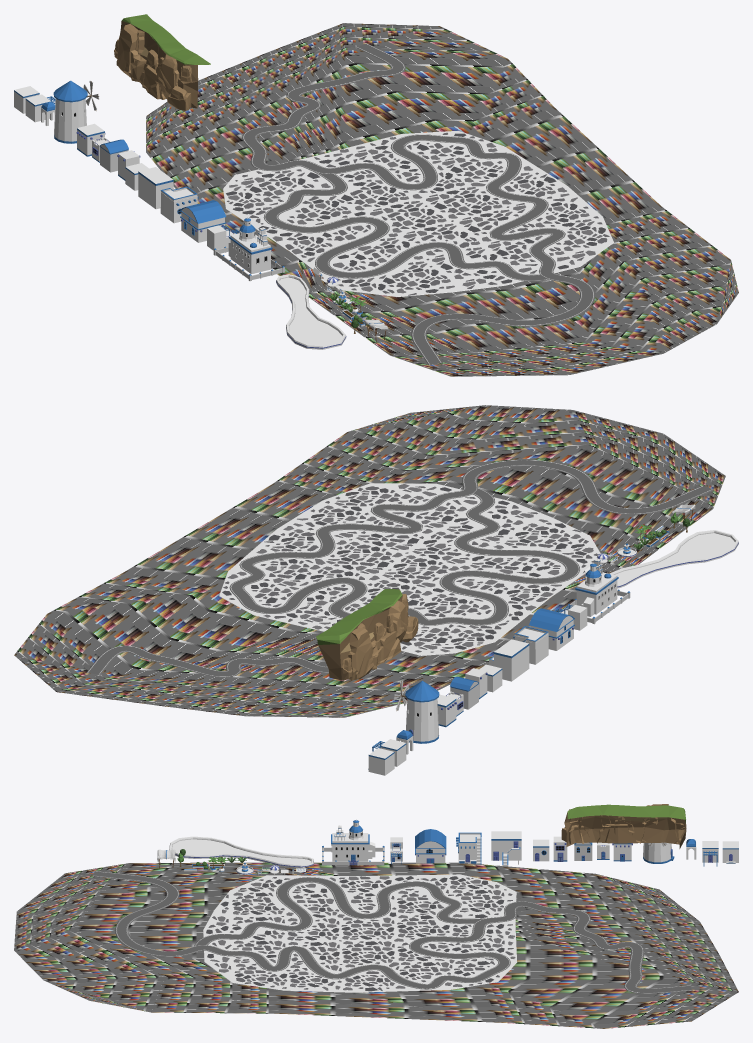
File: GreciaPack.fbx
3 renders of one model, top to bottom at view 1: azimuth 30°, elevation 25°; view 2: azimuth 150°, elevation 25°; view 3: azimuth 270°, elevation 25°, orthographic. The views are drawn at different scales.
Visible parts, largest first — view 1: Grama, Suelo, PiedritasSuelo, Street.003, Risco, Street.002, Picina, Iglecia, Molino, Casa3, Casa4, Casa2 (+2 smaller); view 2: Grama, Suelo, PiedritasSuelo, Street.003, Risco, Street.002, Picina, Molino, Iglecia, Casa3, Casa4, Casa2 (+2 smaller); view 3: Grama, Suelo, PiedritasSuelo, Street.003, Risco, Street.002, Picina, Iglecia, Casa3, Casa4, Casa2, Molino (+3 smaller).
Boxes of the visible parts, x1,y1,x2,y2 form: Grama: (146,23,738,376); Suelo: (223,130,613,297); PiedritasSuelo: (226,132,609,295); Street.003: (242,43,595,365); Risco: (114,14,210,110); Street.002: (263,171,550,281); Picina: (276,274,346,349); Iglecia: (213,217,284,281); Molino: (53,80,99,143); Casa3: (180,200,226,242); Casa4: (138,167,174,209); Casa2: (160,186,198,223); Grama: (14,405,725,717); Suelo: (219,483,600,655); PiedritasSuelo: (222,484,597,652); Street.003: (86,459,713,677); Risco: (316,589,418,680); Street.002: (407,488,579,625); Picina: (609,530,738,588); Molino: (393,680,439,743); Iglecia: (560,559,630,624); Casa3: (529,608,574,650); Casa4: (488,639,529,681); Casa2: (513,626,548,664); Grama: (14,862,738,1028); Suelo: (203,874,517,992); PiedritasSuelo: (206,876,515,991); Street.003: (92,871,692,993); Risco: (561,804,686,848); Street.002: (194,877,487,946); Picina: (169,836,313,867); Iglecia: (322,819,384,865); Casa3: (415,829,446,863); Casa4: (491,831,521,866); Casa2: (456,832,481,864); Molino: (643,842,674,863).
Size of the model in its own units: 19097 by 3880 by 30714.
